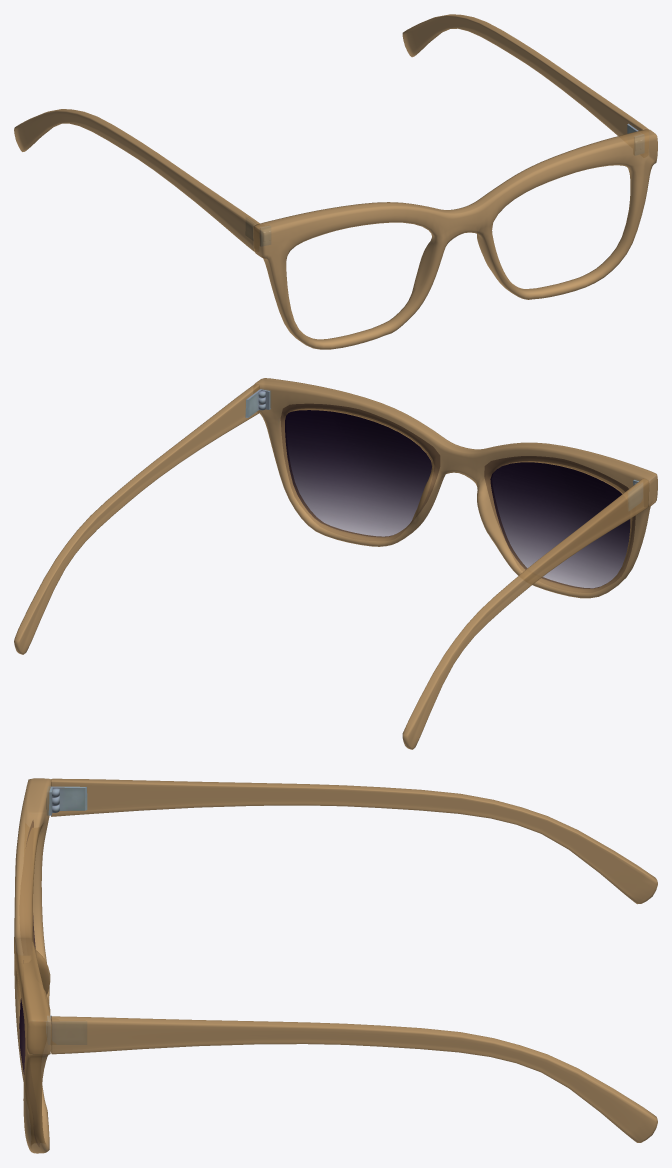
Rendered from glasses7.glb.
3 views of the same model, one above another, from view 1: azimuth 30°, elevation 25°; view 2: azimuth 150°, elevation 25°; view 3: azimuth 270°, elevation 25° (orthographic). The views are drawn at different scales.
Parts seen in each view (by area): view 1: Cube.002_Inesta_02_0; view 2: Cube.002_Inesta_02_0; view 3: Cube.002_Inesta_02_0.
Part boxes in pixels (x1,y1,x2,y2): Cube.002_Inesta_02_0: [14, 14, 657, 349]; Cube.002_Inesta_02_0: [14, 378, 657, 749]; Cube.002_Inesta_02_0: [14, 778, 657, 1153].
Bounding box in the file's own units: 0.6348 × 0.2166 × 0.7102.
Materials: 1 (1 with a texture image).
